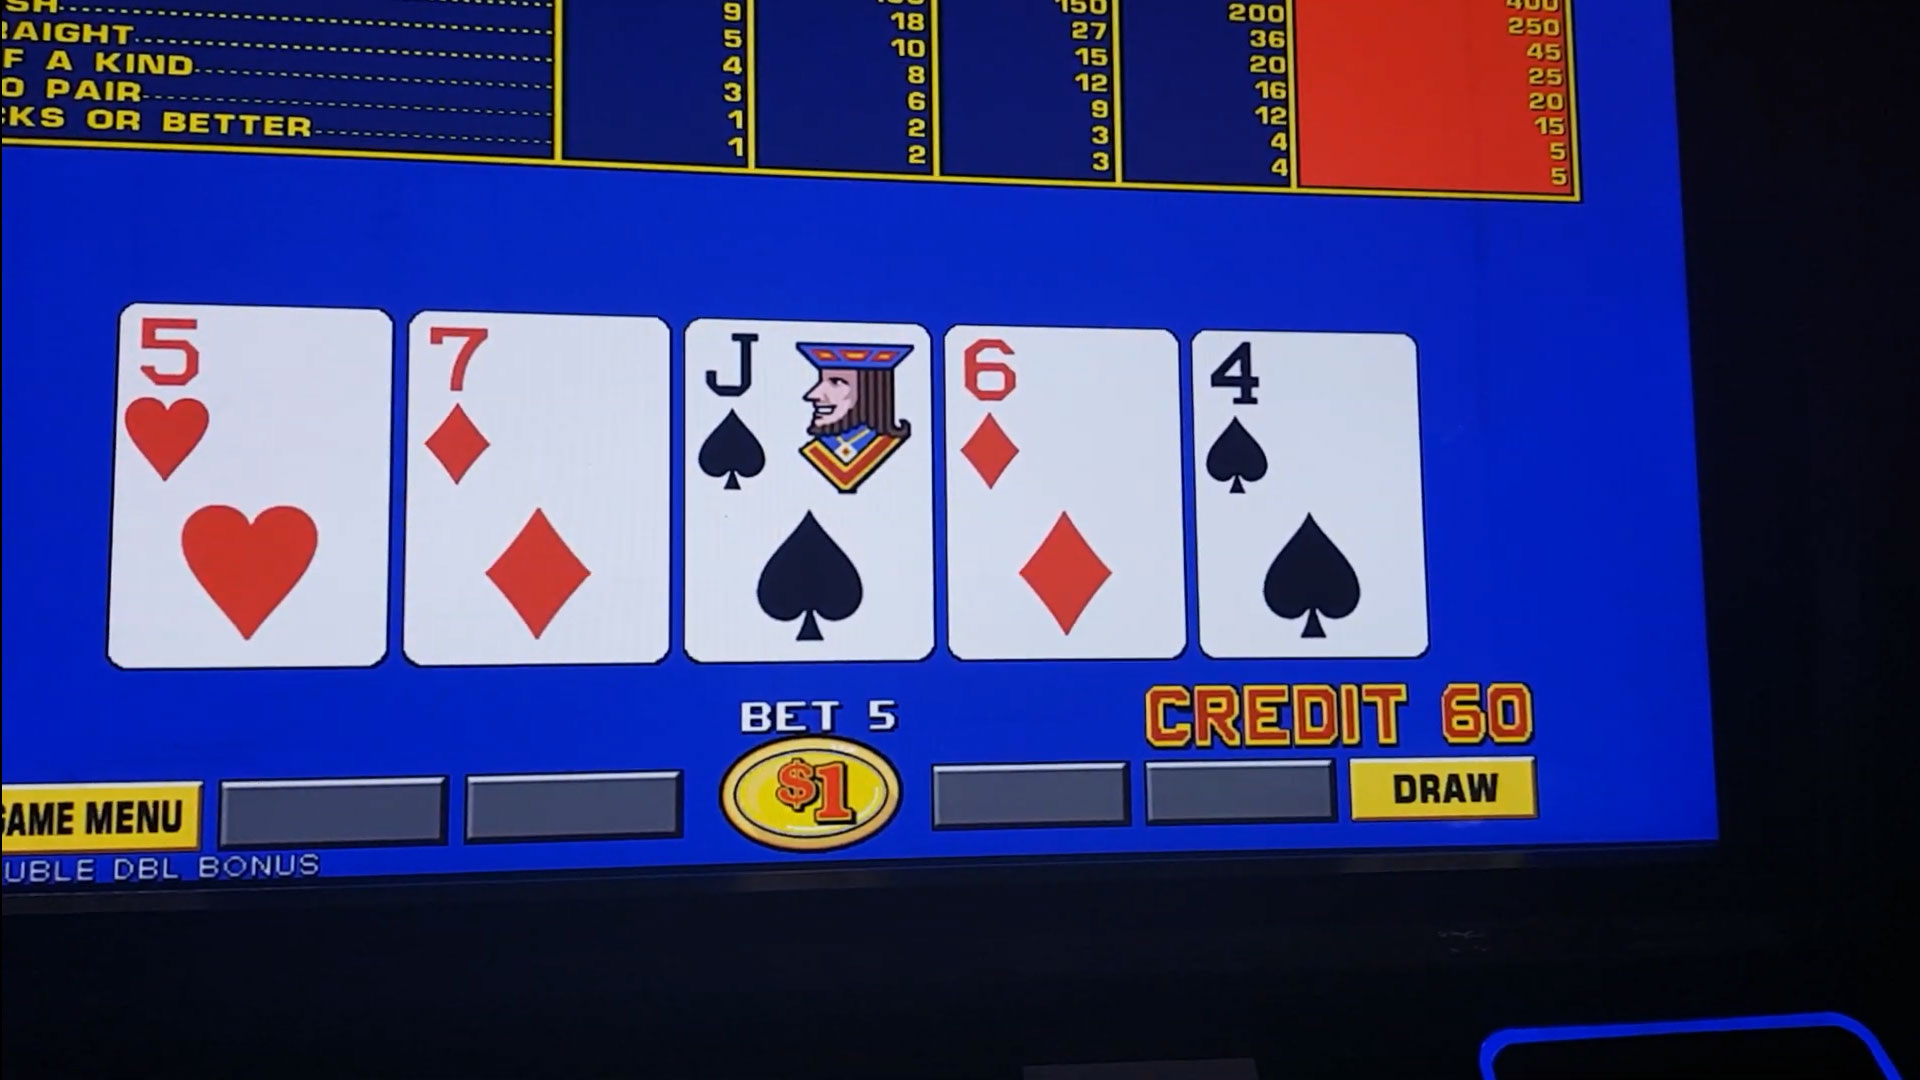D6: (952, 339, 1174, 502)
D7: (415, 316, 659, 497)
H5: (129, 315, 381, 492)
S4: (1199, 339, 1411, 498)
SJ: (696, 330, 923, 500)
